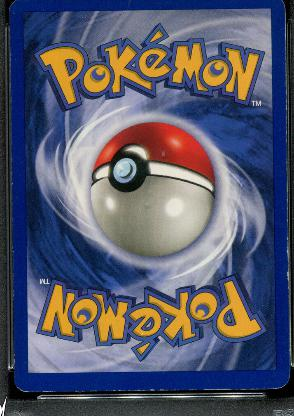Card: (7, 0, 287, 392)
Corner Wear: (271, 380, 287, 390), (13, 381, 26, 393), (8, 0, 20, 11)
Edge Wear: (282, 10, 287, 172), (285, 177, 290, 289), (147, 388, 272, 390), (8, 12, 11, 72), (12, 238, 14, 310), (10, 84, 12, 145), (11, 153, 13, 199), (13, 350, 16, 380), (23, 390, 56, 392), (70, 390, 145, 390)
